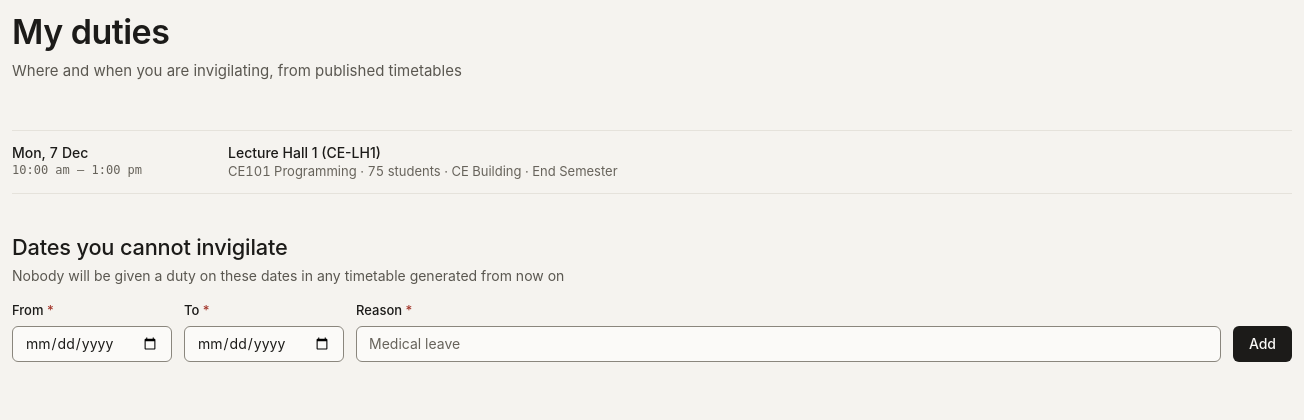
MyDutiesPage › needs an end date on or after the start
expect the text "Lecture Hall 1 (CE-LH1)" is shown: met, box [228,144,381,161]
Step 1. Type "2030-01-10" into the date field labelled "From *" → (92, 344), box [12,326,172,362]
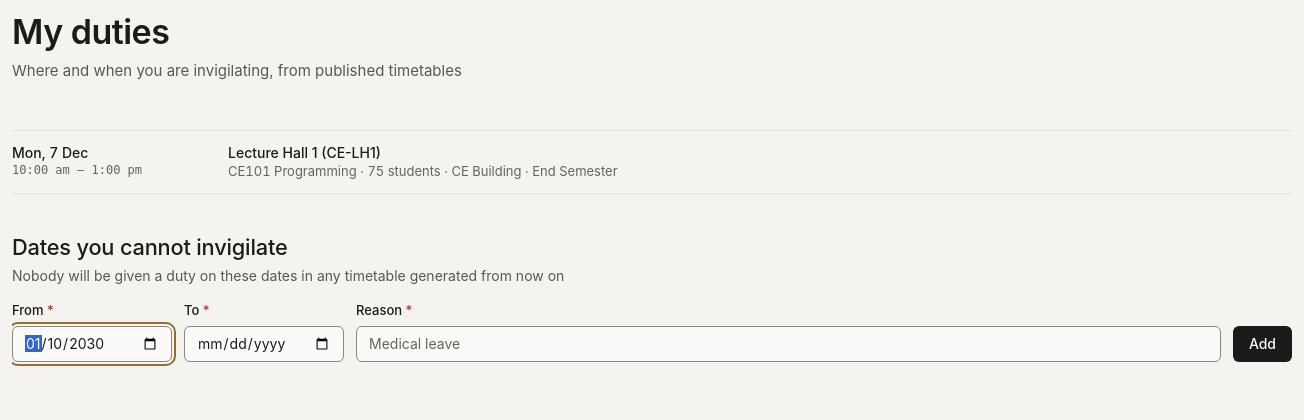
Step 2. Type "2030-01-09" into the date field labelled "To *" → (264, 344), box [184,326,344,362]
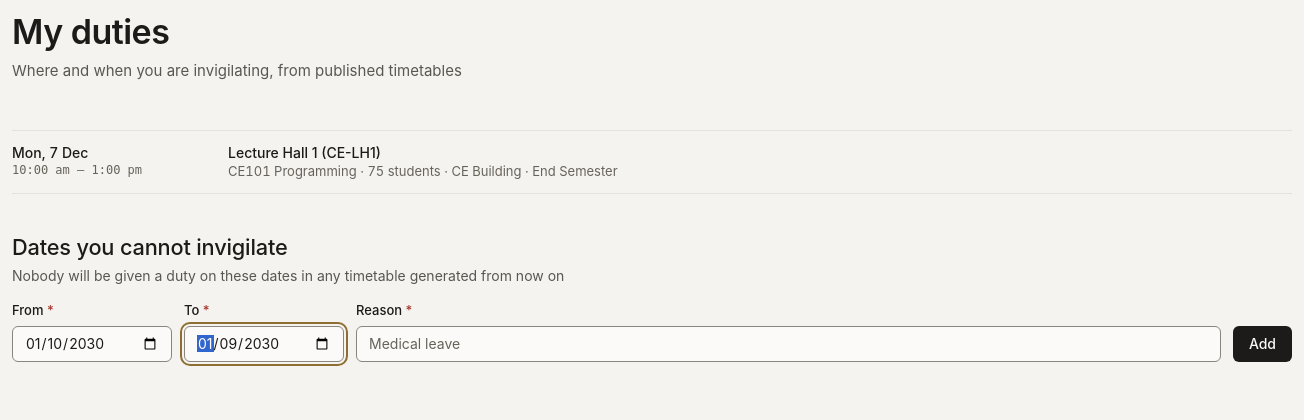
Step 3. Type "Leave" into the field labelled "Reason *" → (788, 344), box [356,326,1221,362]
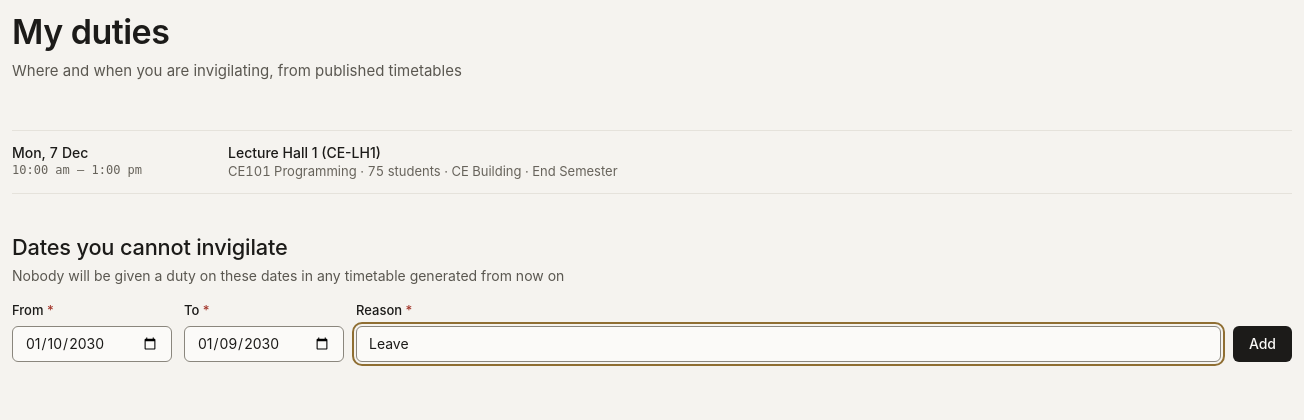
Step 4. Click the button "Add" → (1262, 344), box [1233,326,1292,362]
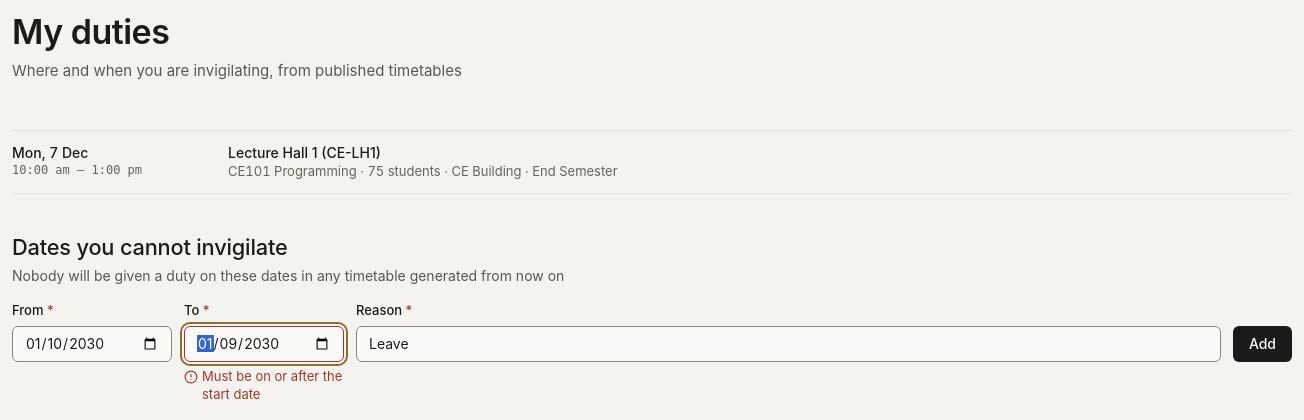
expect the text "Must be on or after the start date" is shown: met, box [184,368,344,404]
